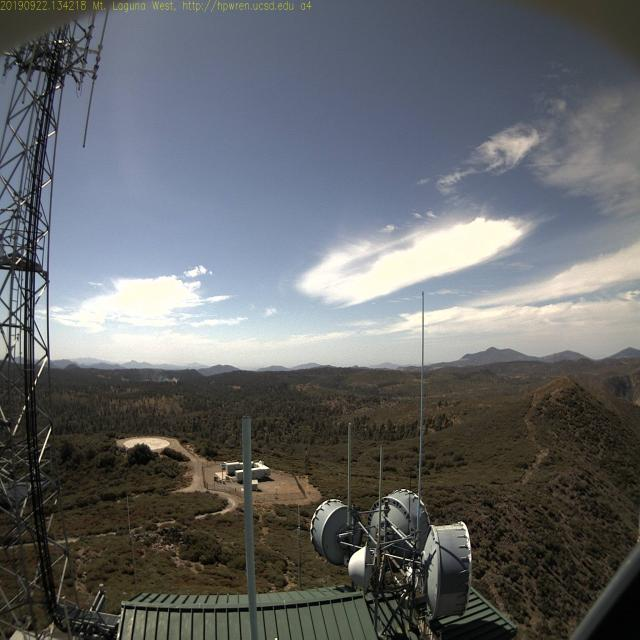smoke: (141, 360, 182, 385)
